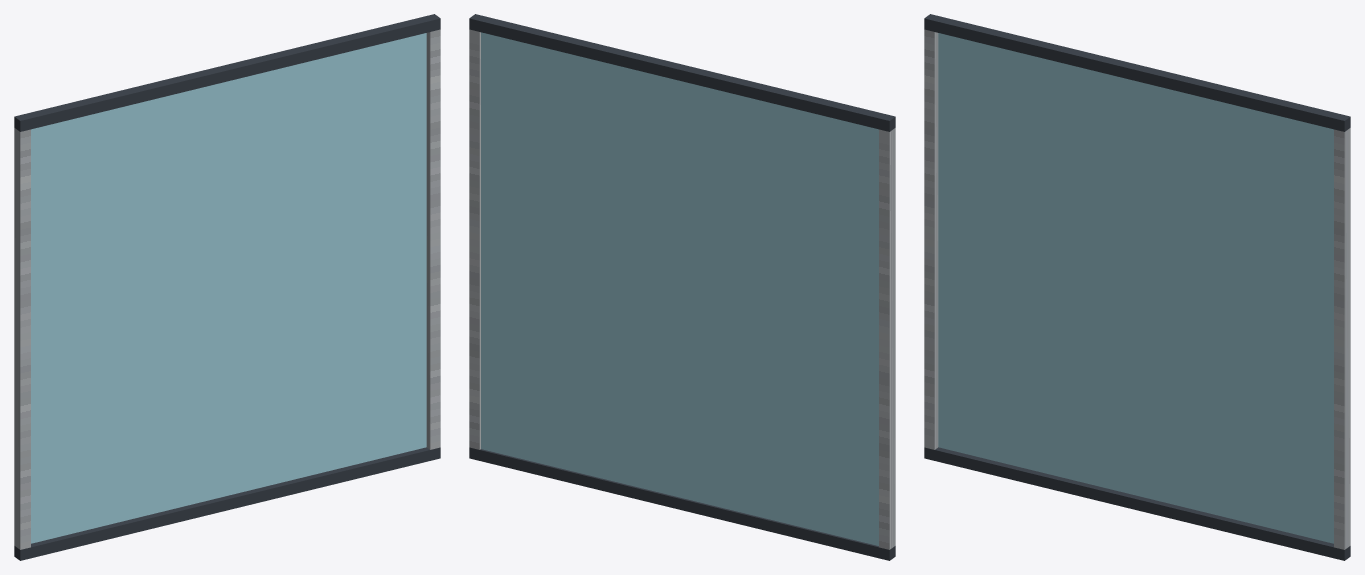
Rendered from glass-4x4.glb.
3 renders of one model, left to right at view 1: azimuth 30°, elevation 25°; view 2: azimuth 150°, elevation 25°; view 3: azimuth 330°, elevation 25°, orthographic.
Visible parts, largest first — view 1: Glass4x4; view 2: Glass4x4; view 3: Glass4x4.
Boxes of the visible parts, x1=… form: Glass4x4: x1=14, y1=14, x2=440, y2=560; Glass4x4: x1=469, y1=14, x2=895, y2=560; Glass4x4: x1=924, y1=14, x2=1350, y2=560.
Size of the model in its own units: 4 by 4 by 0.1.
3 materials, 1 textured.
